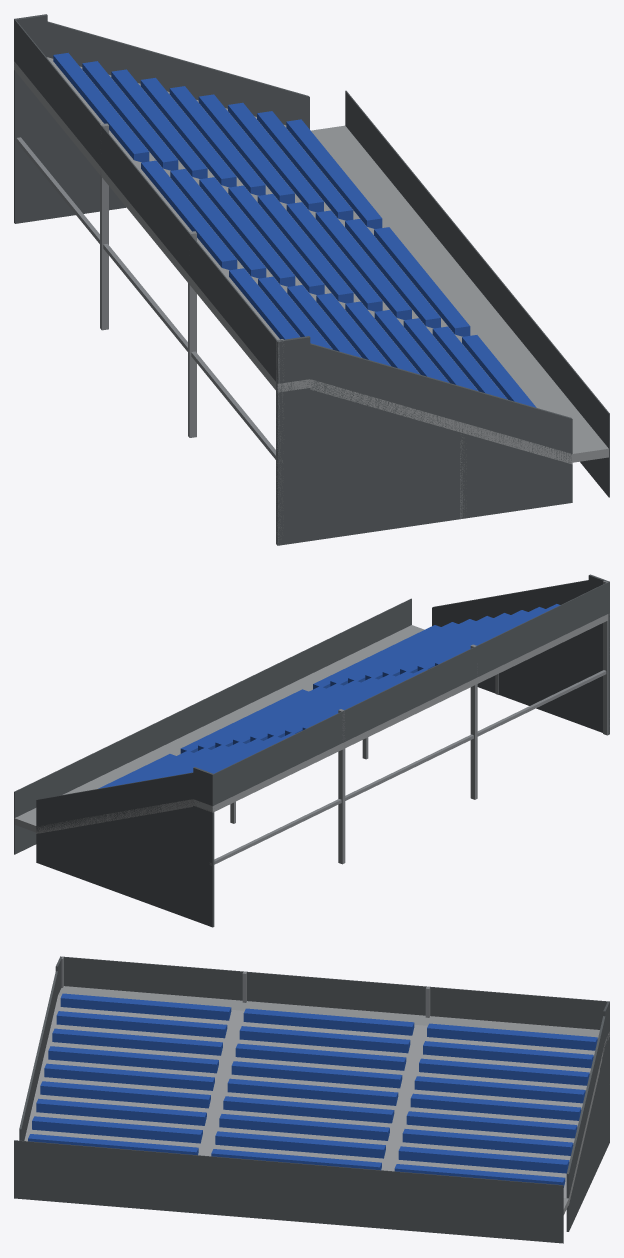
File: mza_stand_amici.glb
3 views of the same model, one above another, from view 1: azimuth 30°, elevation 25°; view 2: azimuth 150°, elevation 25°; view 3: azimuth 270°, elevation 25° (orthographic). The views are drawn at different scales.
Parts seen in each view (by area): view 1: monza-amici; view 2: monza-amici; view 3: monza-amici.
Boxes of the visible parts, bbox=[...] form: monza-amici: bbox=[14, 14, 609, 545]; monza-amici: bbox=[14, 574, 609, 927]; monza-amici: bbox=[14, 956, 609, 1243].
Bounding box in the file's own units: 12.96 × 5.84 × 22.36.
